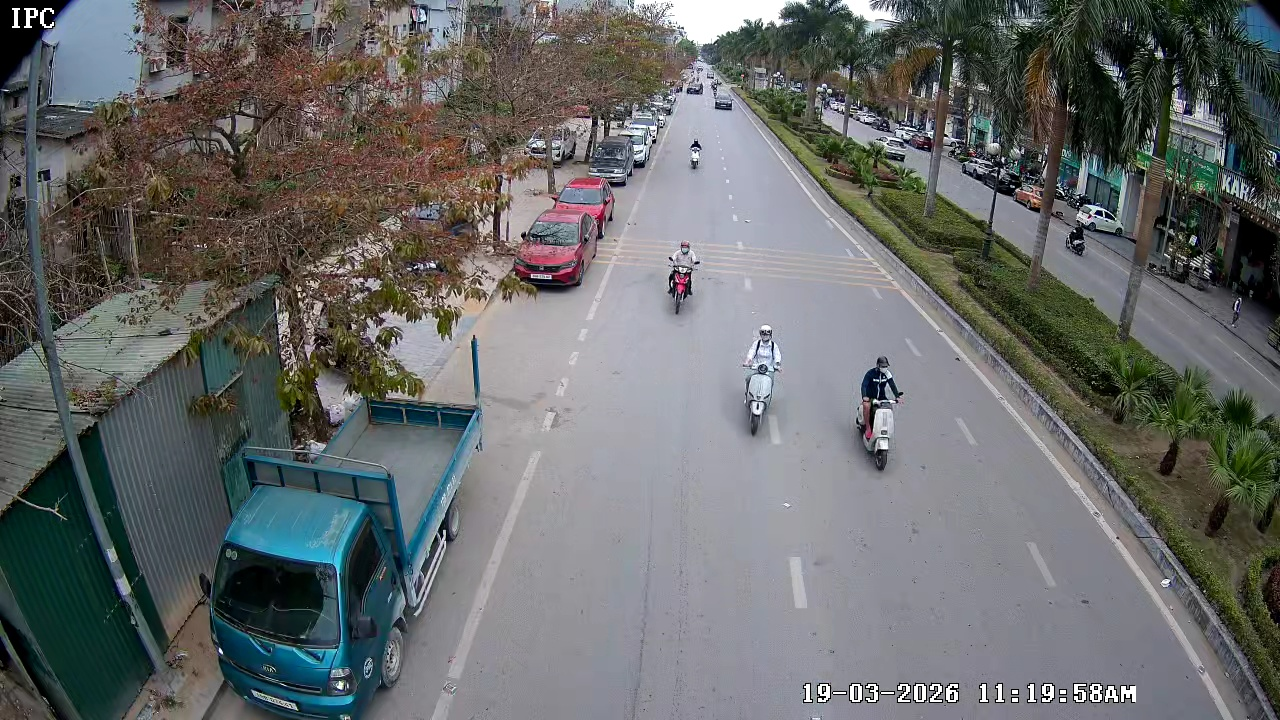car: (514, 209, 591, 290), (553, 175, 616, 238), (585, 131, 638, 187), (713, 91, 735, 112)
motorbike: (852, 354, 906, 470), (738, 324, 784, 435), (664, 240, 701, 315), (687, 139, 707, 169)
